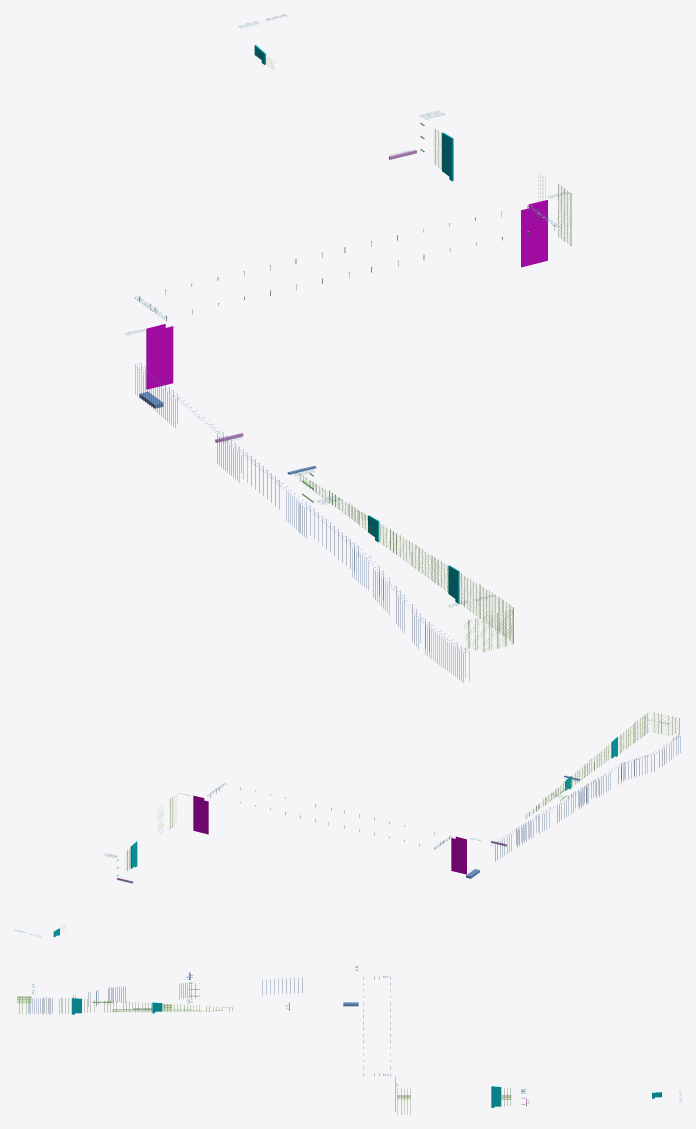
3 views of the same model, one above another, from view 1: azimuth 30°, elevation 25°; view 2: azimuth 150°, elevation 25°; view 3: azimuth 270°, elevation 25° (orthographic). The views are drawn at different scales.
Parts seen in each view (by area): view 1: 1IEzkf000_RJ4pDpasE34o, 1IEzkf000_QJ4pDpasE34m; view 2: 1IEzkf000_QJ4pDpasE34m, 1IEzkf000_RJ4pDpasE34o; view 3: no part large enough to name.
Part boxes in pixels (x1,y1,x2,y2): 1IEzkf000_RJ4pDpasE34o: (146,324,173,389); 1IEzkf000_QJ4pDpasE34m: (521,200,547,267); 1IEzkf000_QJ4pDpasE34m: (193,795,208,834); 1IEzkf000_RJ4pDpasE34o: (451,836,466,874).
Bounding box in the file's own units: 56.44 × 10.8 × 133.
